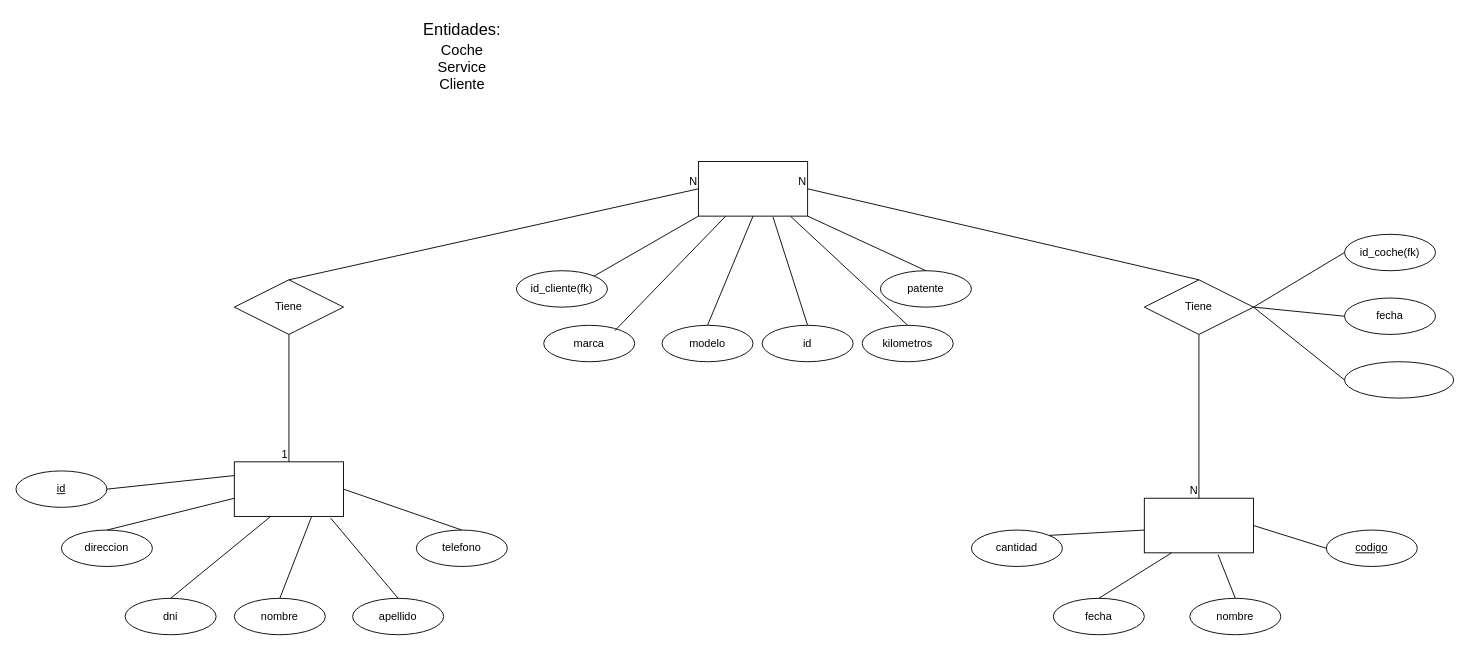
Image size: 1470x651. Some labels were removed from this diagram. Here are the shapes that lost their labels. From the top down, the box of each, then its label:
(698, 161, 808, 216): Coche
(1344, 361, 1454, 398): codigo_service(fk)
(233, 461, 344, 516): Cliente
(1143, 497, 1254, 553): Service
